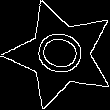O_E: (28, 27, 92, 83)
